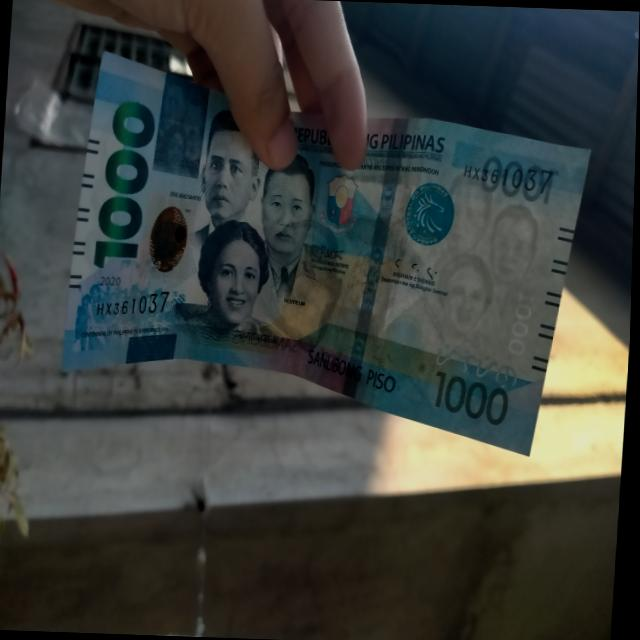concealed_value: (152, 64, 211, 175)
optically_variable_device: (140, 189, 200, 281)
security_thread: (339, 114, 406, 398)
see_through_mark: (425, 328, 532, 388)
serial_number: (95, 283, 177, 325)
value_watermark: (505, 288, 540, 362)
watermark: (422, 165, 547, 346)
